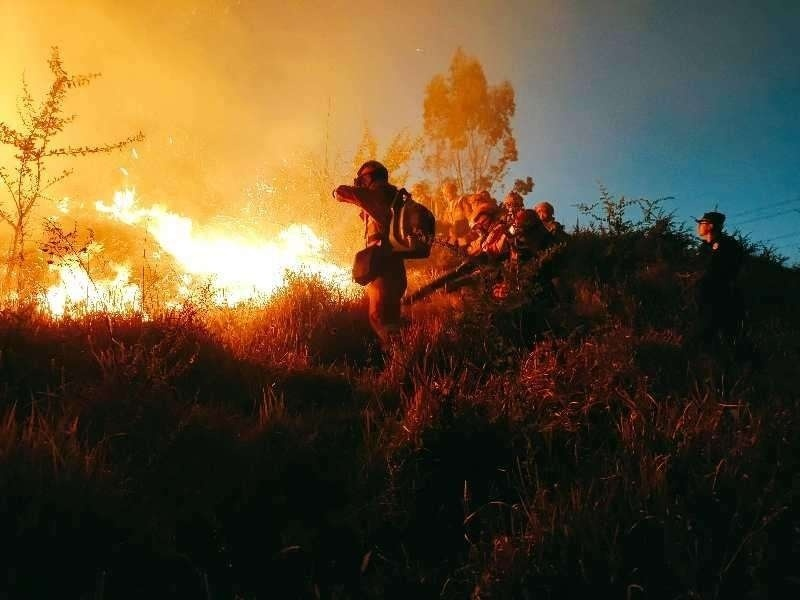fire: (3, 137, 356, 324)
